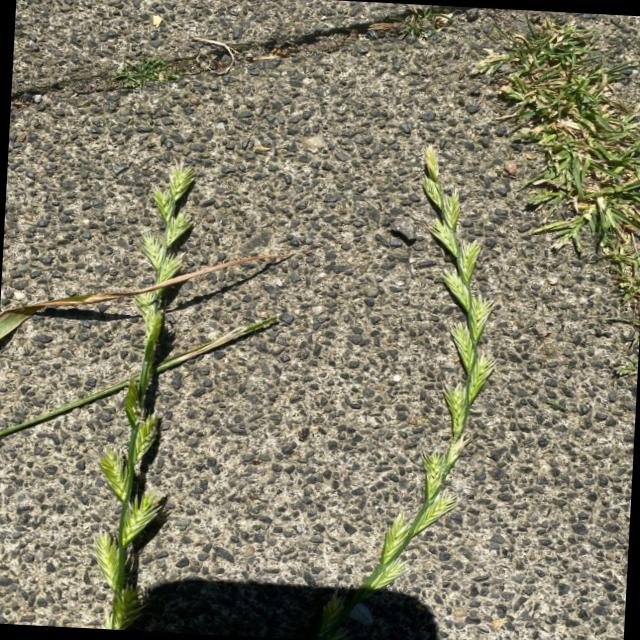Lolium: (0, 151, 309, 636), (316, 137, 512, 640)
